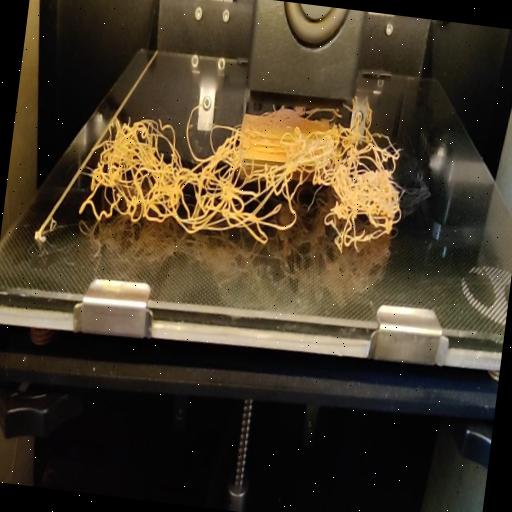spaghetti: (76, 66, 416, 264)
